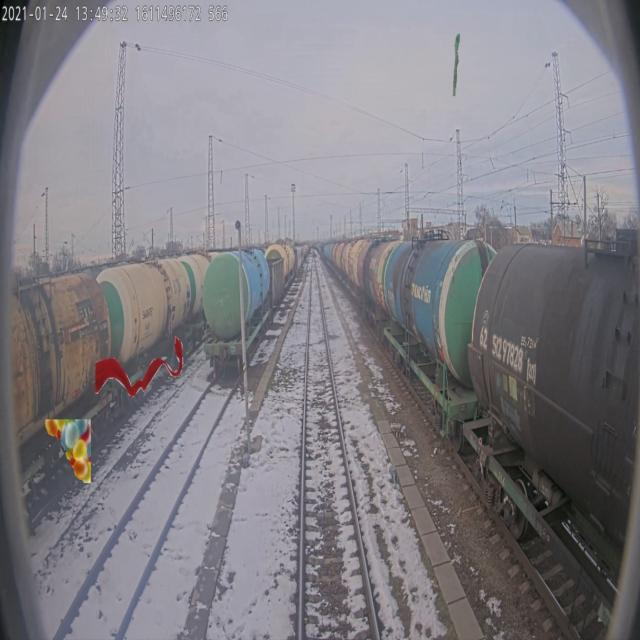balloon: (45, 419, 91, 483)
floating object: (94, 334, 184, 398), (453, 32, 460, 96)
